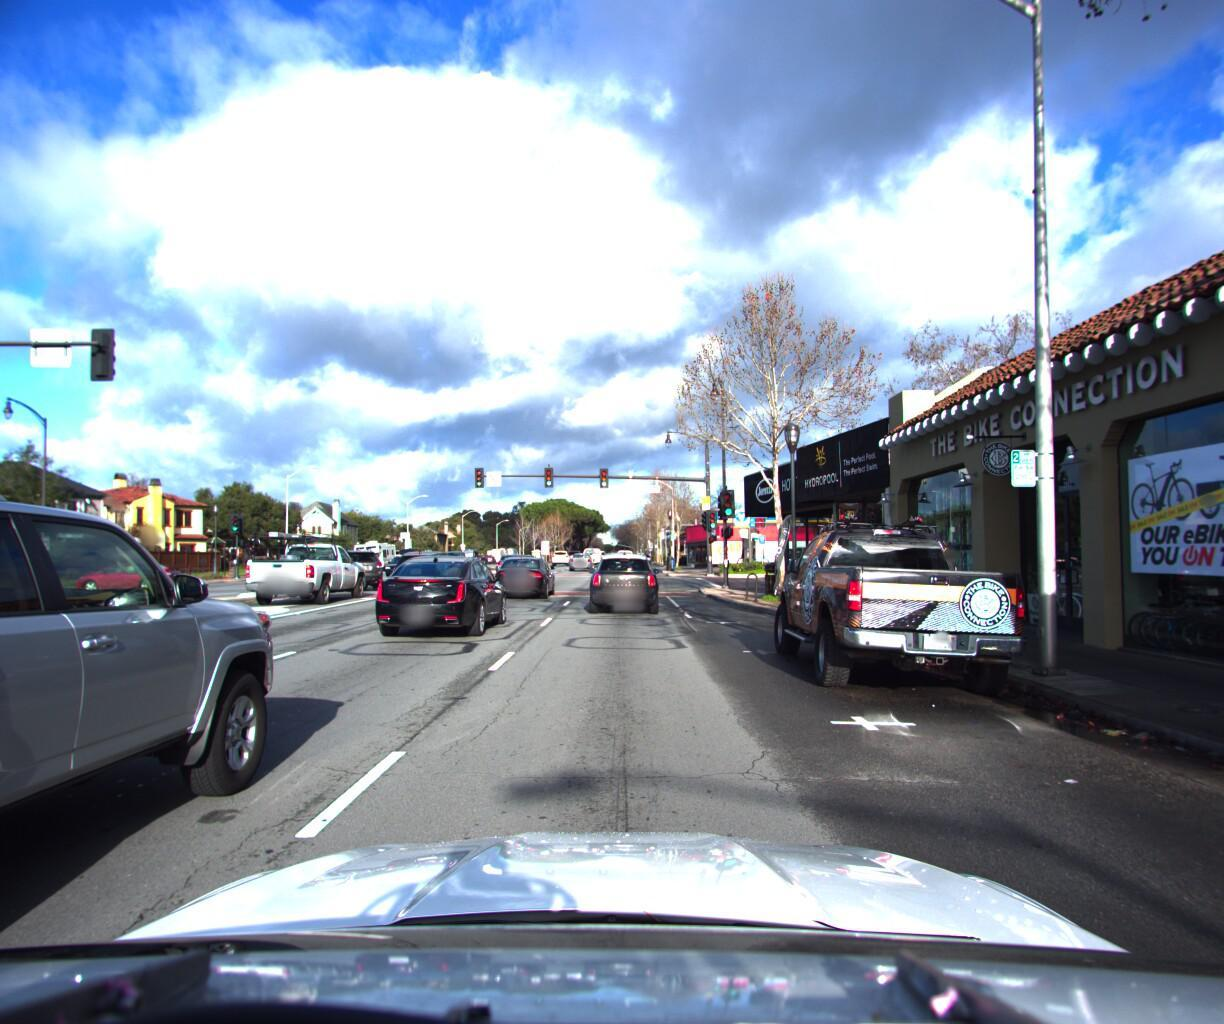car: (0, 405, 300, 1024), (760, 499, 1061, 710), (360, 558, 510, 644), (233, 523, 374, 607), (585, 550, 659, 614), (380, 545, 464, 599), (490, 554, 557, 598), (324, 547, 388, 592), (565, 546, 594, 566), (577, 541, 601, 562), (549, 545, 570, 560)
other_vehicle: (347, 534, 397, 566)
